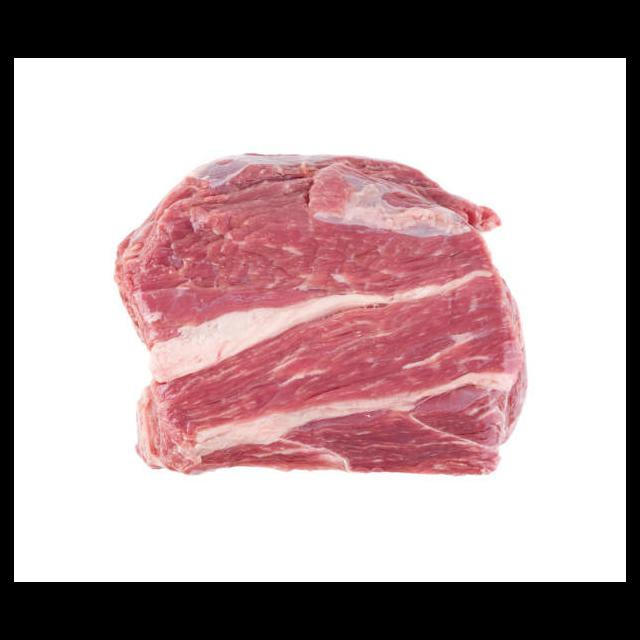beef: (115, 148, 531, 477)
